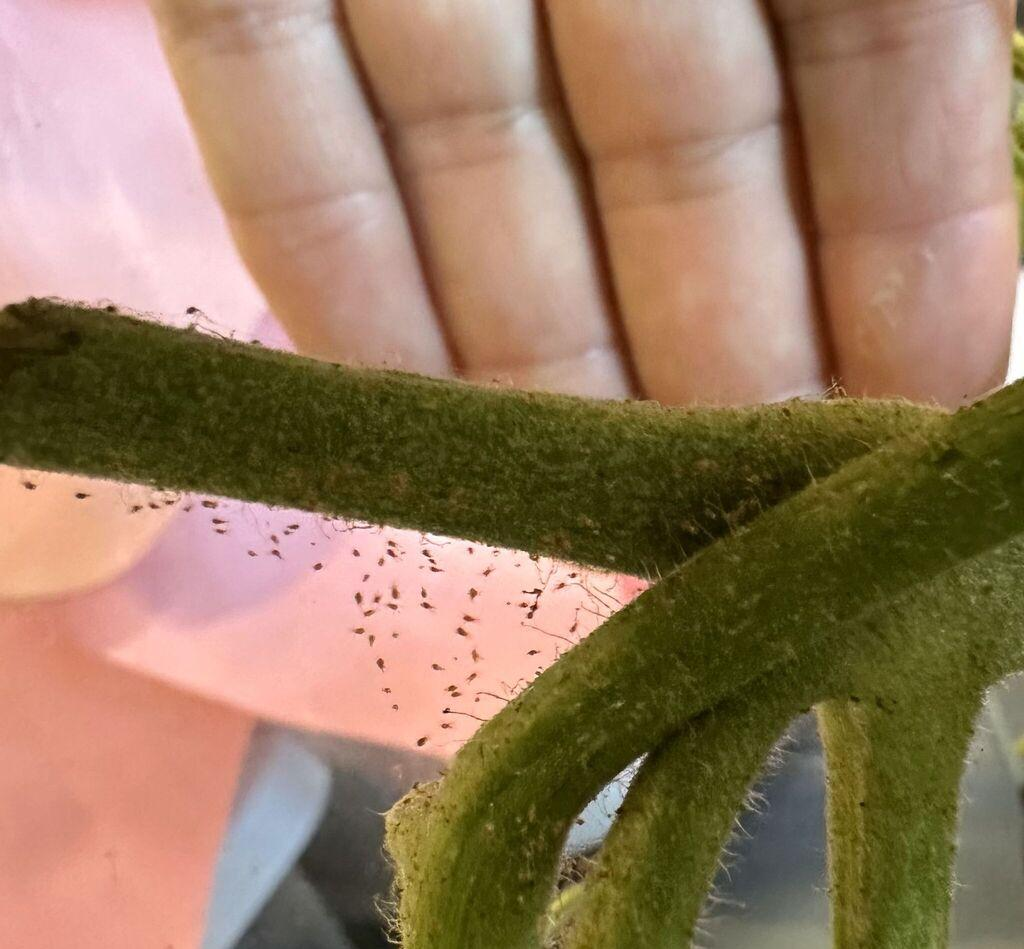tiny_pests: (335, 544, 495, 751)
